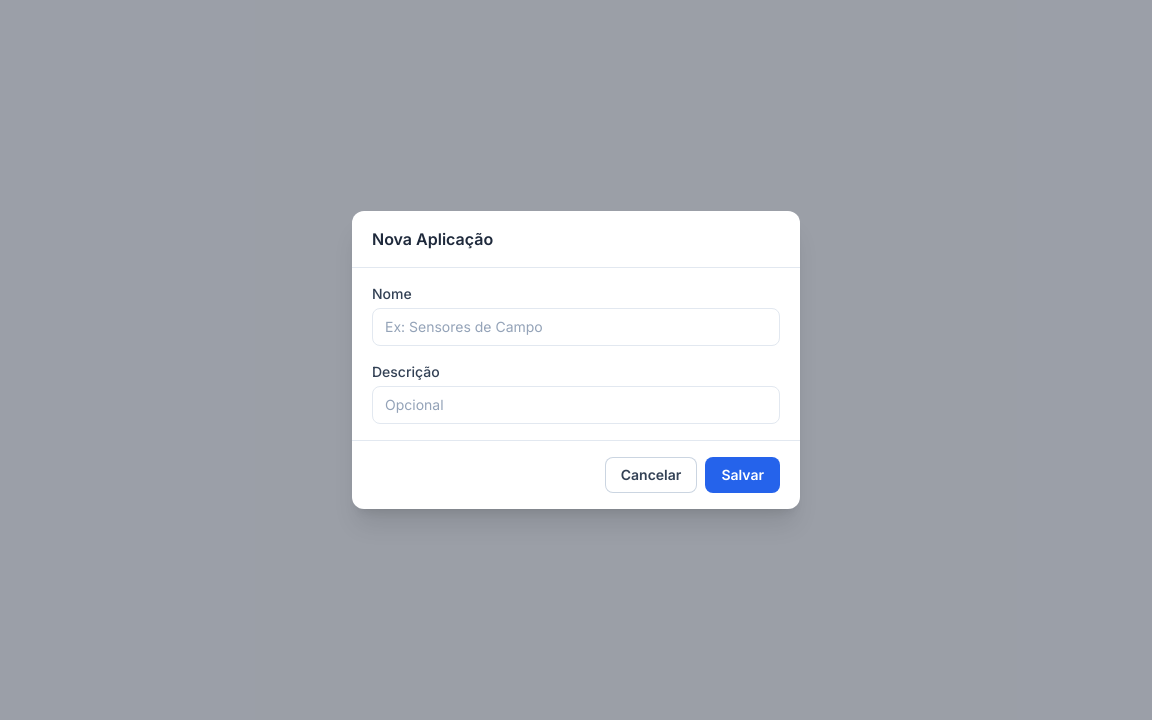
Scenario: ApplicationFormModal › shows Zod error when name is too short
Type "a" into the field labelled "Nome".
click(576, 327); type("a")  # box [372, 308, 780, 346]
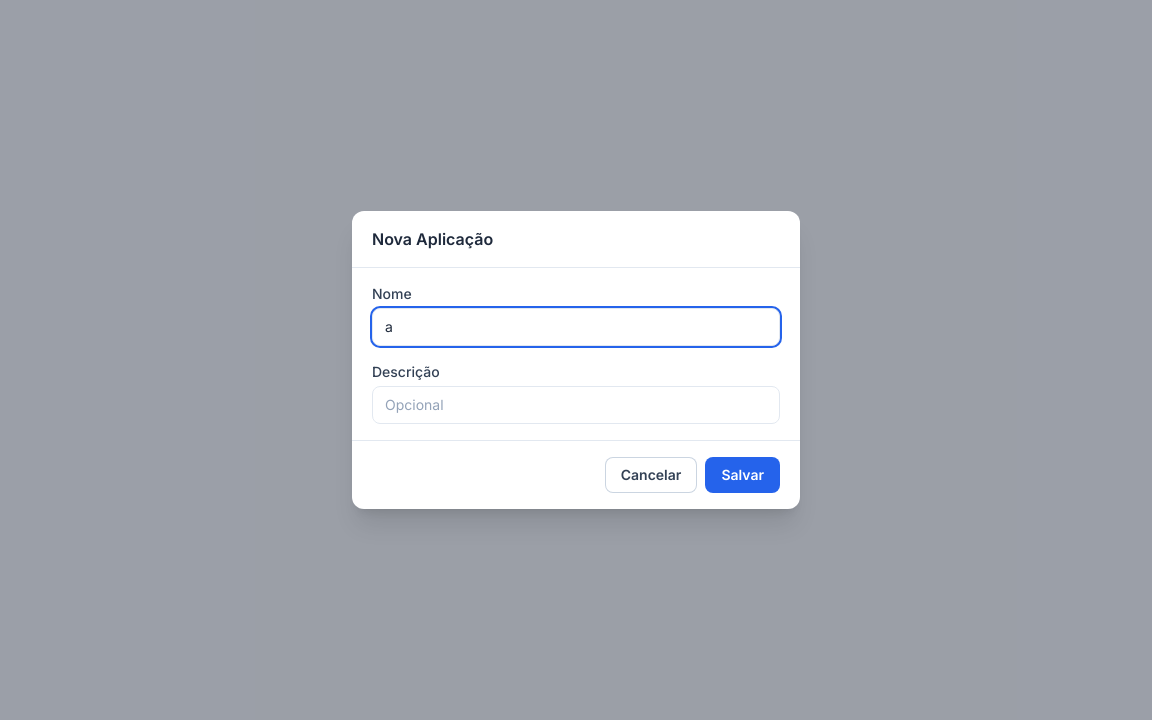
Click the button "Salvar".
click(743, 475)  # box [705, 457, 780, 493]
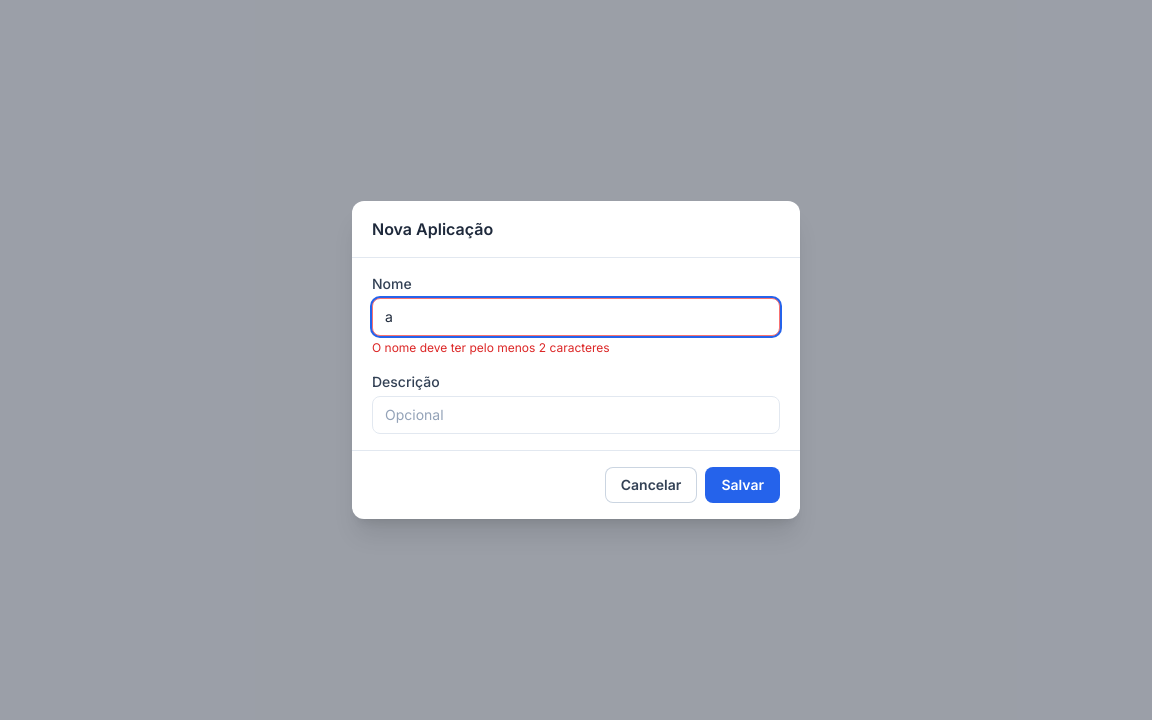
Check: the text "O nome deve ter pelo menos 2 caracteres" is shown, box [372, 340, 610, 355]
